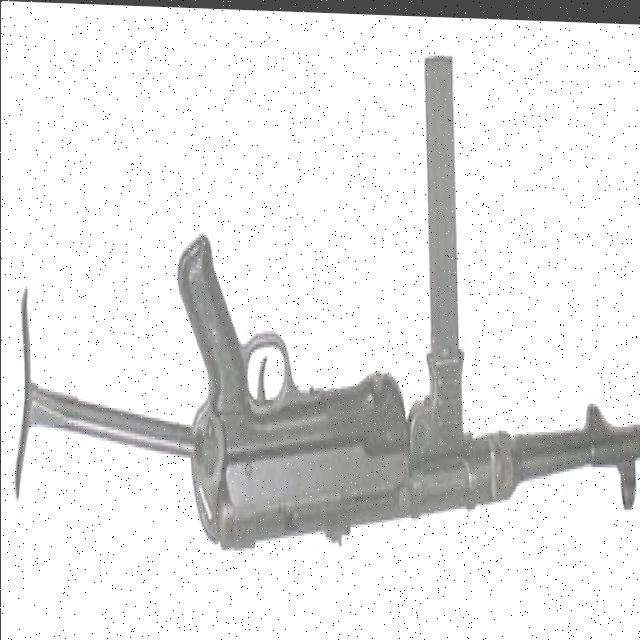firearm: (12, 36, 640, 571)
